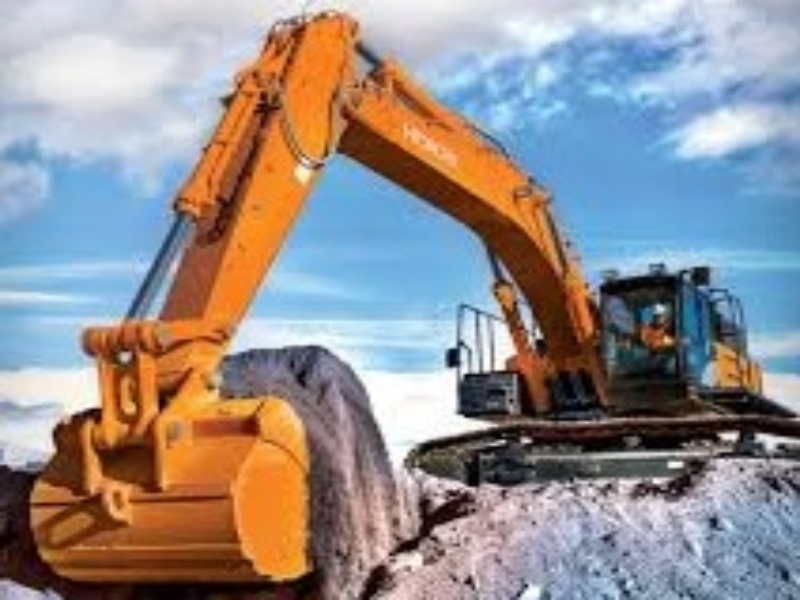wajueji: (378, 177, 800, 545)
